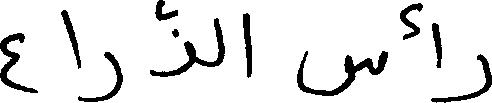X: (298, 46, 385, 100), (403, 0, 440, 102), (151, 0, 192, 81), (442, 49, 491, 102), (0, 28, 33, 97), (91, 47, 119, 102), (64, 5, 79, 102), (244, 8, 250, 82), (215, 13, 222, 70)
